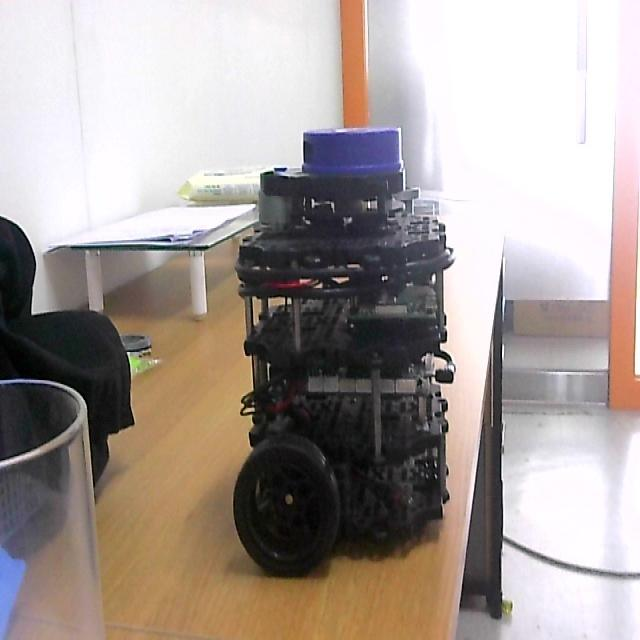turtle: (232, 127, 458, 578)
